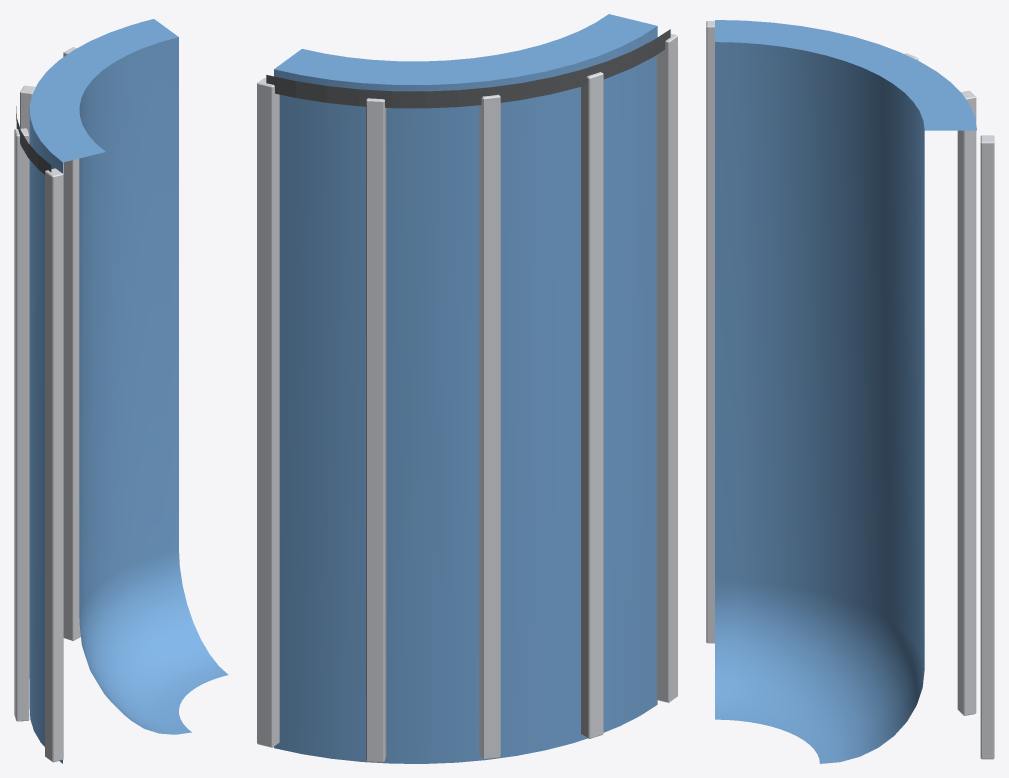
The model's file is 35484_Cyclorama_Corner_Section__TV_Studio_and_Broadcast_Gallery_.glb.
The picture shows the model from 3 angles, left to right: view 1: azimuth 30°, elevation 25°; view 2: azimuth 150°, elevation 25°; view 3: azimuth 270°, elevation 25°; orthographic projection. The views are drawn at different scales.
Parts seen in each view (by area): view 1: cyclorama-corner-section; view 2: cyclorama-corner-section; view 3: cyclorama-corner-section.
Part boxes in pixels (x1,y1,x2,y2): cyclorama-corner-section: (14,19,228,763); cyclorama-corner-section: (257,14,677,763); cyclorama-corner-section: (706,20,994,763).
Size of the model in its own units: 1.65 by 4 by 1.65.
